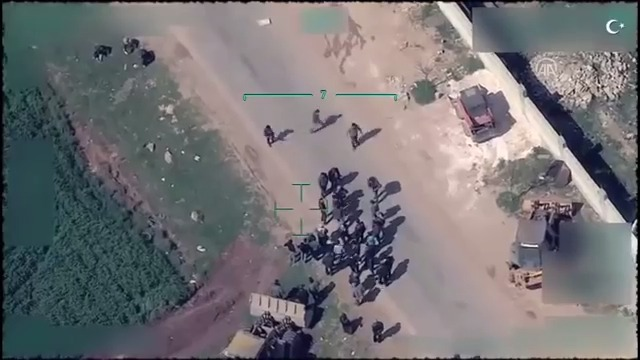arac: (450, 78, 500, 145)
insan: (344, 116, 369, 154), (282, 231, 299, 265), (310, 104, 328, 135), (367, 316, 385, 344), (366, 174, 384, 201), (262, 119, 279, 146), (299, 233, 311, 264), (317, 169, 329, 196)
